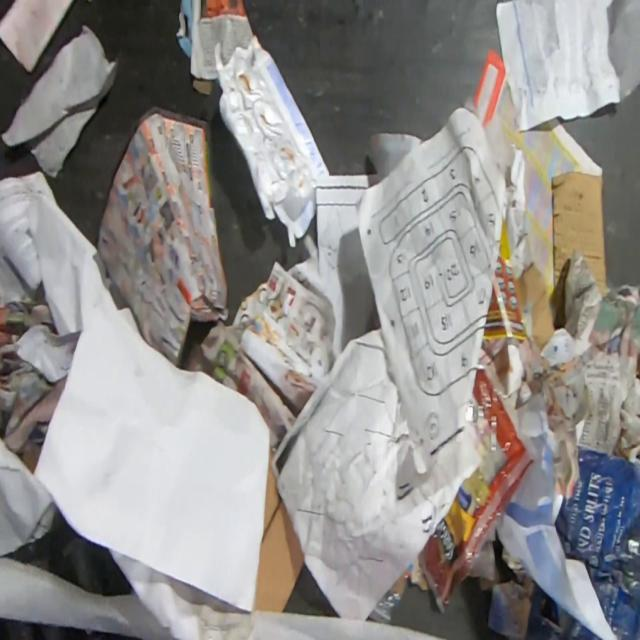cardboard: (552, 170, 608, 328), (253, 448, 304, 616), (517, 261, 554, 353)
soft_plastic: (418, 361, 539, 614), (212, 33, 332, 248), (368, 588, 402, 626)
